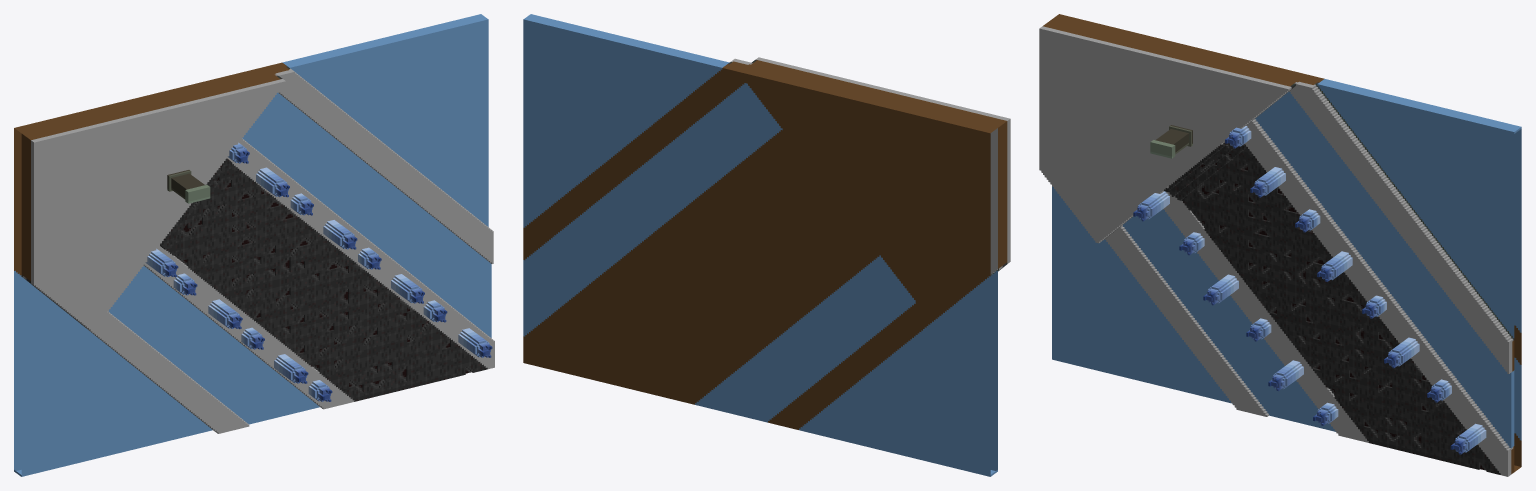
The picture shows the model from 3 angles, left to right: view 1: azimuth 30°, elevation 25°; view 2: azimuth 150°, elevation 25°; view 3: azimuth 330°, elevation 25°; orthographic projection.
Size of the model in its own units: 25.6 by 18 by 3.9.
1 material, 1 textured.
